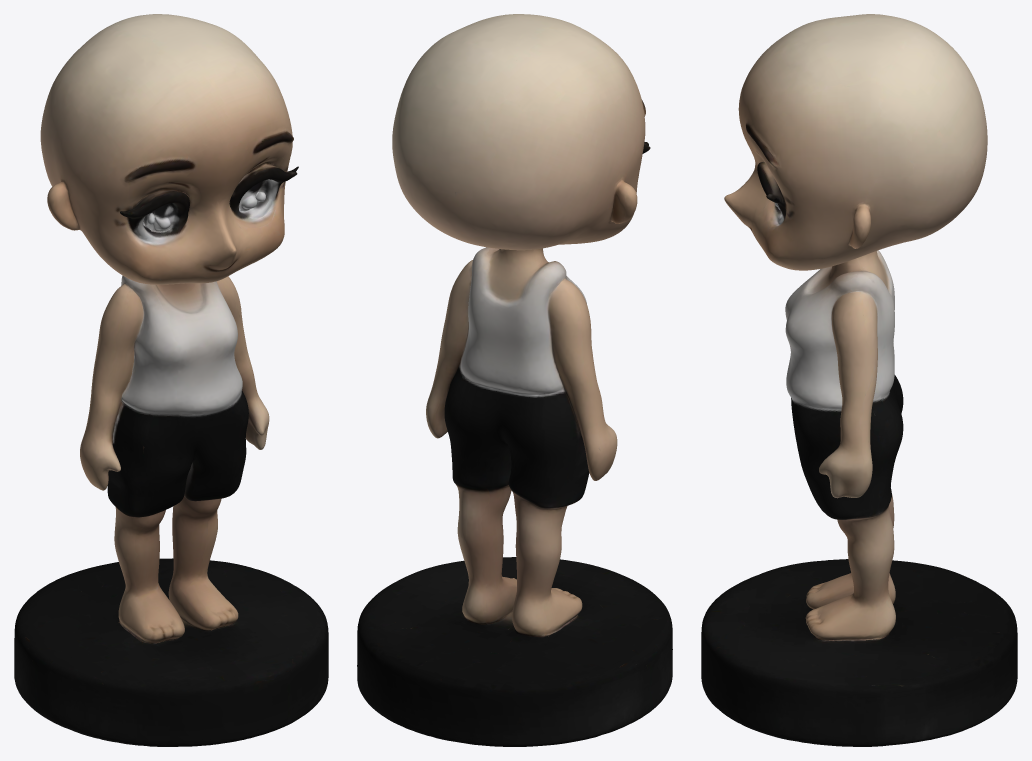
Rendered from Chibi Girl.glb.
3 renders of one model, left to right at view 1: azimuth 30°, elevation 25°; view 2: azimuth 150°, elevation 25°; view 3: azimuth 270°, elevation 25°, orthographic.
Parts seen in each view (by area): view 1: geometry_0.012; view 2: geometry_0.012; view 3: geometry_0.012.
Part boxes in pixels (<box>): geometry_0.012: <box>14,14,328,746</box>; geometry_0.012: <box>357,14,672,746</box>; geometry_0.012: <box>701,14,1017,746</box>.
Size of the model in its own units: 0.4351 by 1 by 0.4396.
Materials: 1 (1 with a texture image).
